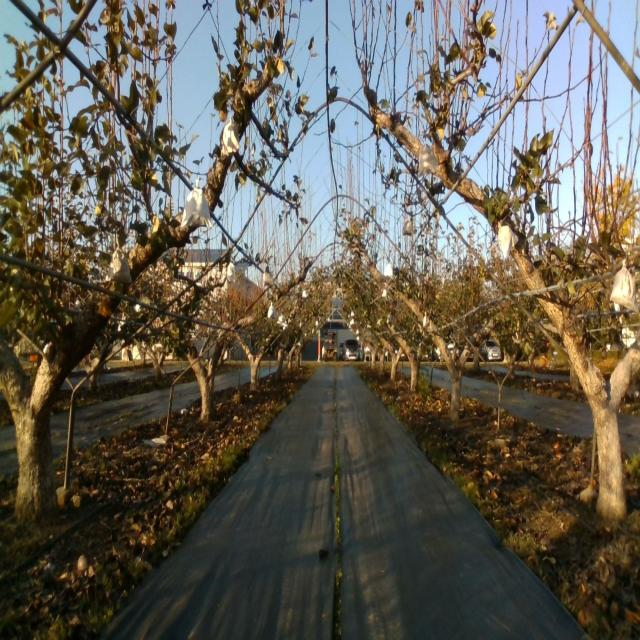pearbags: (610, 260, 640, 315), (181, 178, 212, 230), (106, 245, 132, 282), (221, 116, 240, 158), (496, 221, 518, 257), (418, 143, 438, 177)
